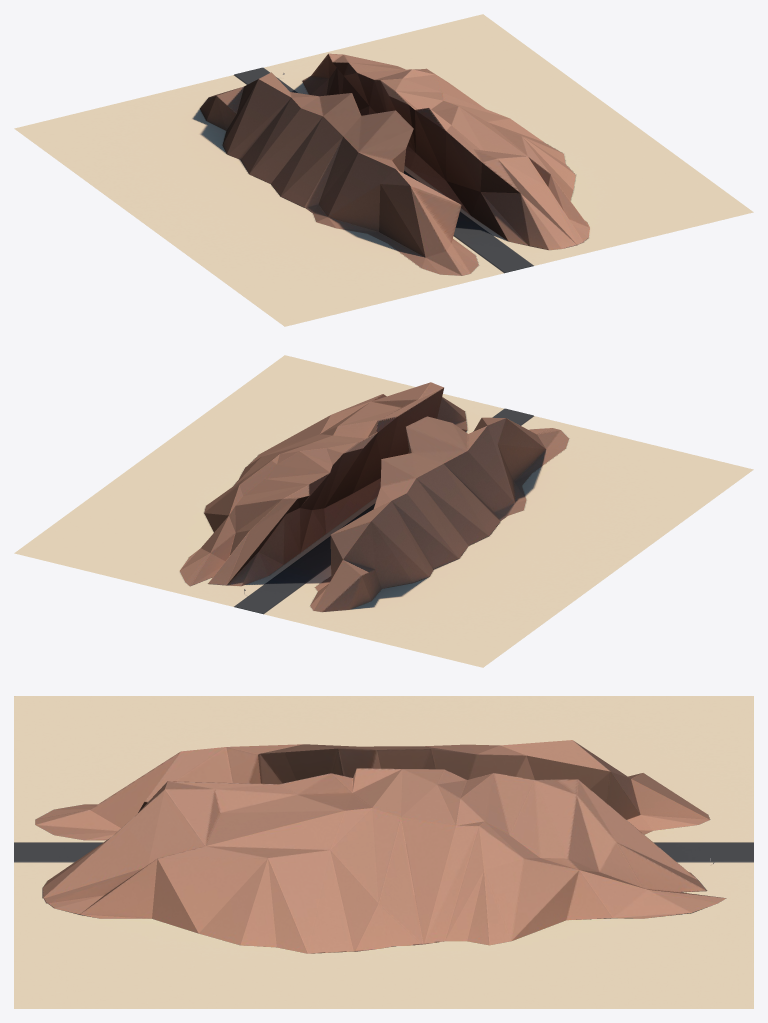
Rendered from GHL_Module3.fbx.
The picture shows the model from 3 angles, top to bottom: view 1: azimuth 30°, elevation 25°; view 2: azimuth 150°, elevation 25°; view 3: azimuth 270°, elevation 25°; orthographic projection. The views are drawn at different scales.
Parts seen in each view (by area): view 1: module3; view 2: module3; view 3: module3.
Boxes of the visible parts, x1=… form: module3: x1=14, y1=14, x2=753, y2=326; module3: x1=14, y1=355, x2=753, y2=667; module3: x1=14, y1=696, x2=753, y2=1008.
Size of the model in its own units: 1200 by 187 by 1200.
Materials: 1 (1 with a texture image).
